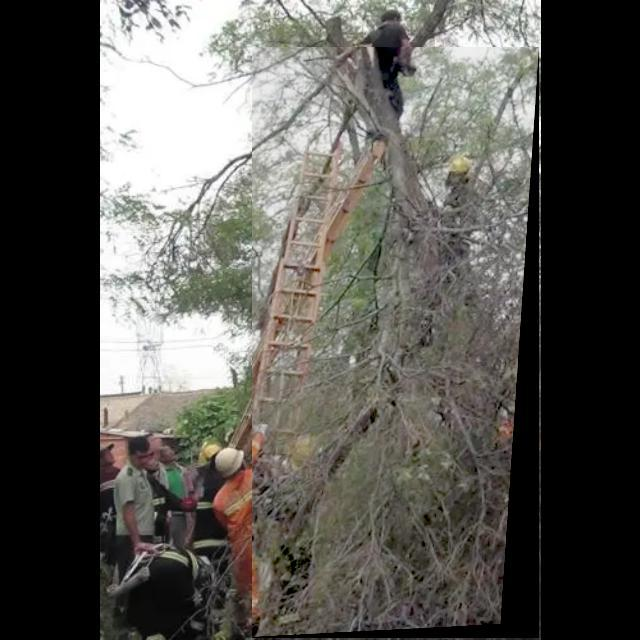fallen_tree: (252, 47, 540, 639)
